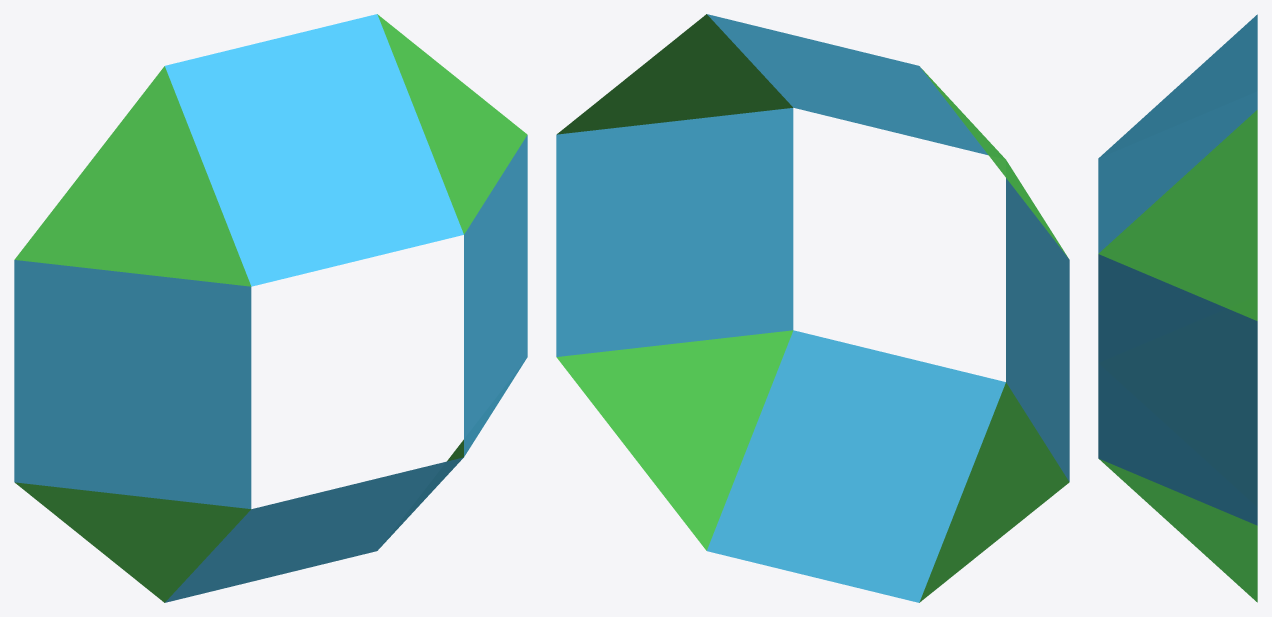
The model's file is SquareCupolaA.obj.
3 renders of one model, left to right at view 1: azimuth 30°, elevation 25°; view 2: azimuth 150°, elevation 25°; view 3: azimuth 270°, elevation 25°, orthographic. The views are drawn at different scales.
Size of the model in its own units: 2.41 by 2.41 by 0.7071.
